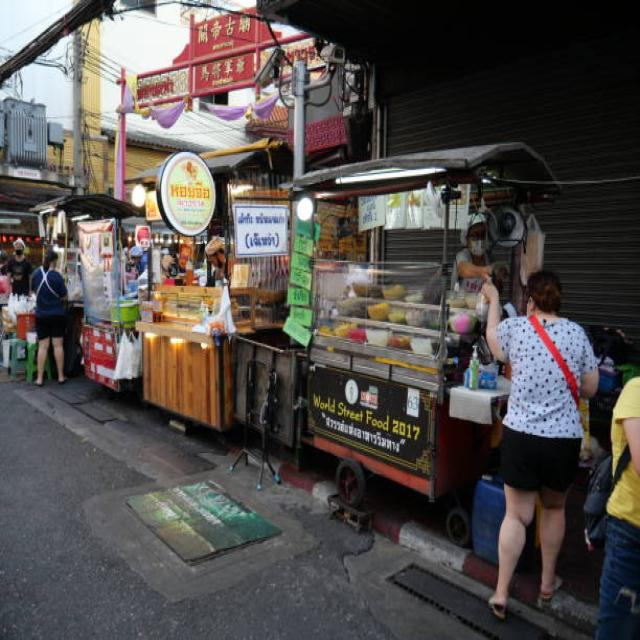Emperan: (278, 129, 579, 518)
